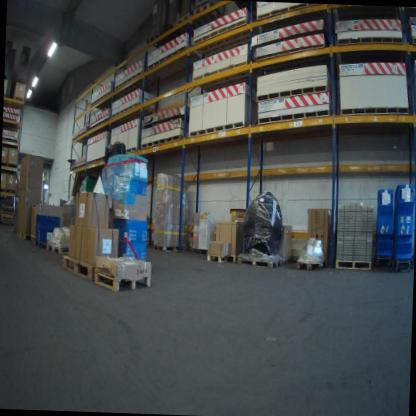pallet: (190, 12, 267, 56), (187, 122, 256, 158), (259, 104, 334, 137), (147, 43, 204, 85), (253, 39, 327, 71), (193, 59, 250, 95), (257, 80, 327, 108), (336, 99, 409, 124), (336, 31, 406, 57), (92, 269, 155, 297), (259, 4, 329, 28), (110, 68, 157, 99), (140, 129, 187, 160), (59, 253, 99, 288), (111, 100, 157, 125), (236, 253, 285, 273), (332, 255, 372, 276), (151, 236, 186, 257), (292, 254, 327, 270), (169, 9, 192, 32), (88, 88, 113, 109), (86, 115, 110, 136), (1, 204, 19, 228), (43, 242, 73, 256), (205, 250, 228, 266), (193, 4, 211, 23), (189, 245, 210, 259), (14, 226, 32, 242), (123, 142, 138, 159), (85, 155, 104, 168), (407, 33, 416, 60), (226, 251, 242, 266), (28, 234, 42, 250), (3, 116, 20, 125), (3, 135, 19, 144), (7, 162, 18, 172), (5, 189, 17, 195)
